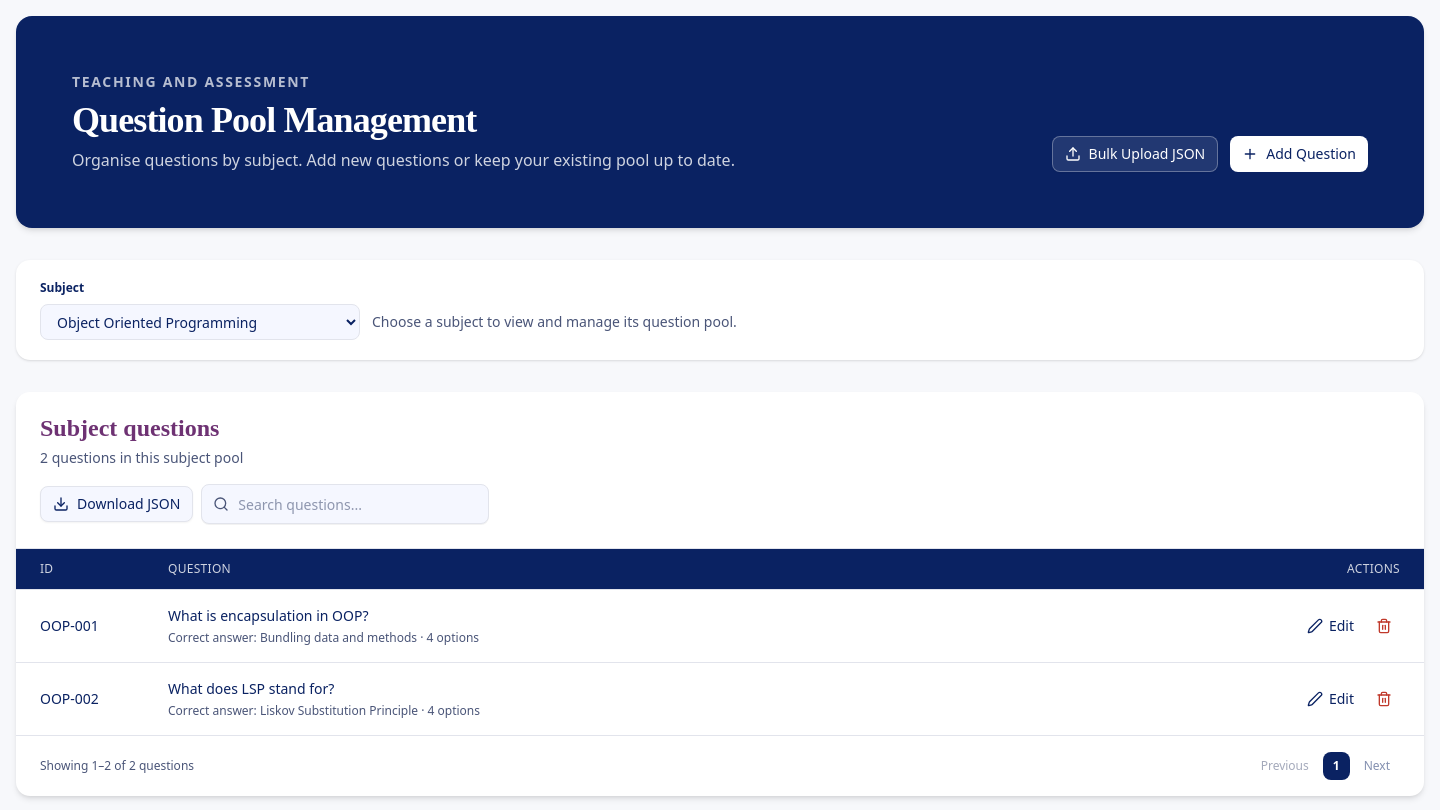
Test: QuestionPoolPage › filters questions by search term
The width and height of the screenshot is (1440, 810).
Expected: the text "What is encapsulation in OOP?" is shown, x1=168 y1=606 x2=368 y2=625
Type "LSP" into the field with placeholder "Search questions...".
click(345, 504); type("LSP")  # box x1=201 y1=484 x2=489 y2=524
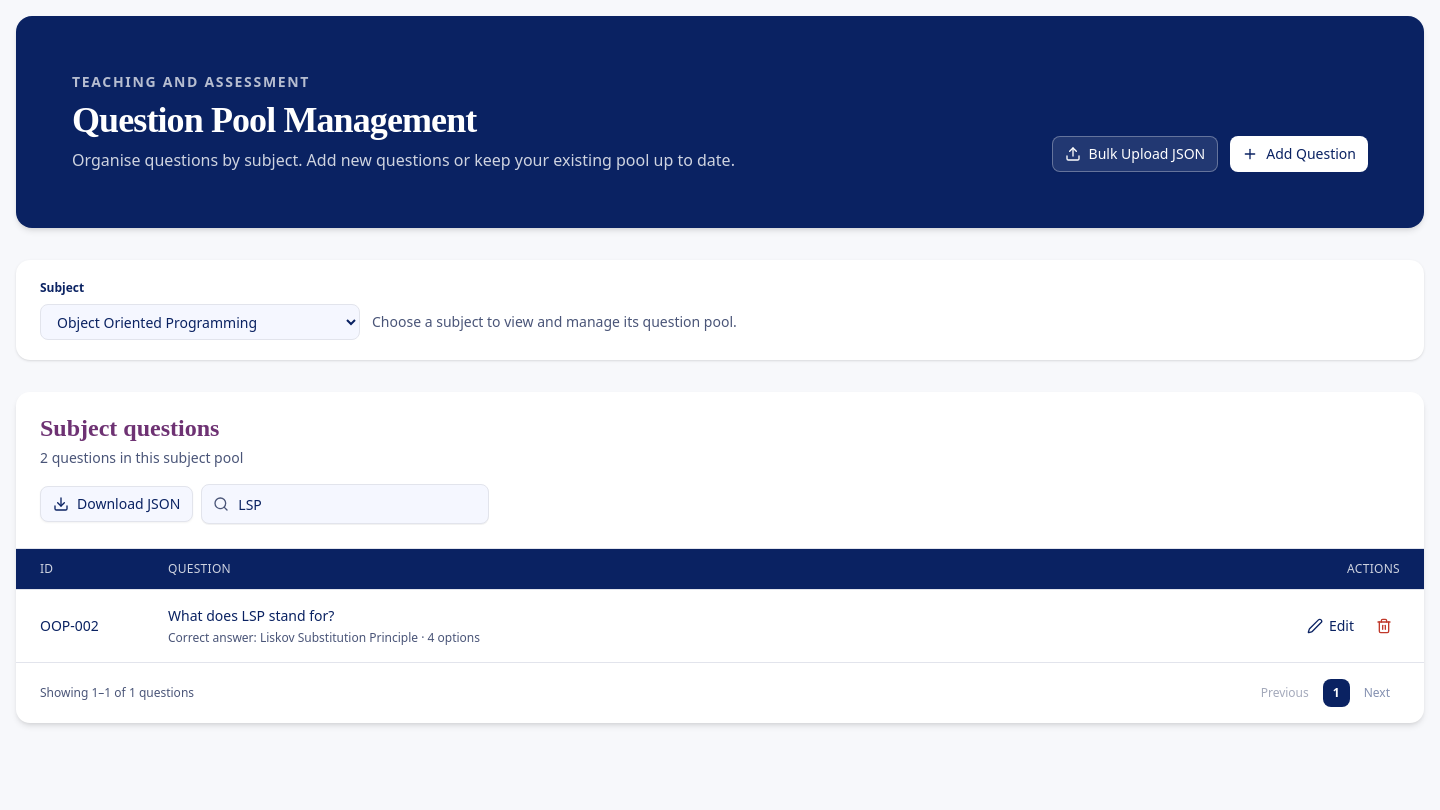
Expected: the text "What is encapsulation in OOP?" is gone
Expected: the text "What does LSP stand for?" is shown, x1=168 y1=606 x2=334 y2=625
Replace the text in the field with placeholder "Search questions..." with "nonexistent-query" at (345, 504), box x1=201 y1=484 x2=489 y2=524
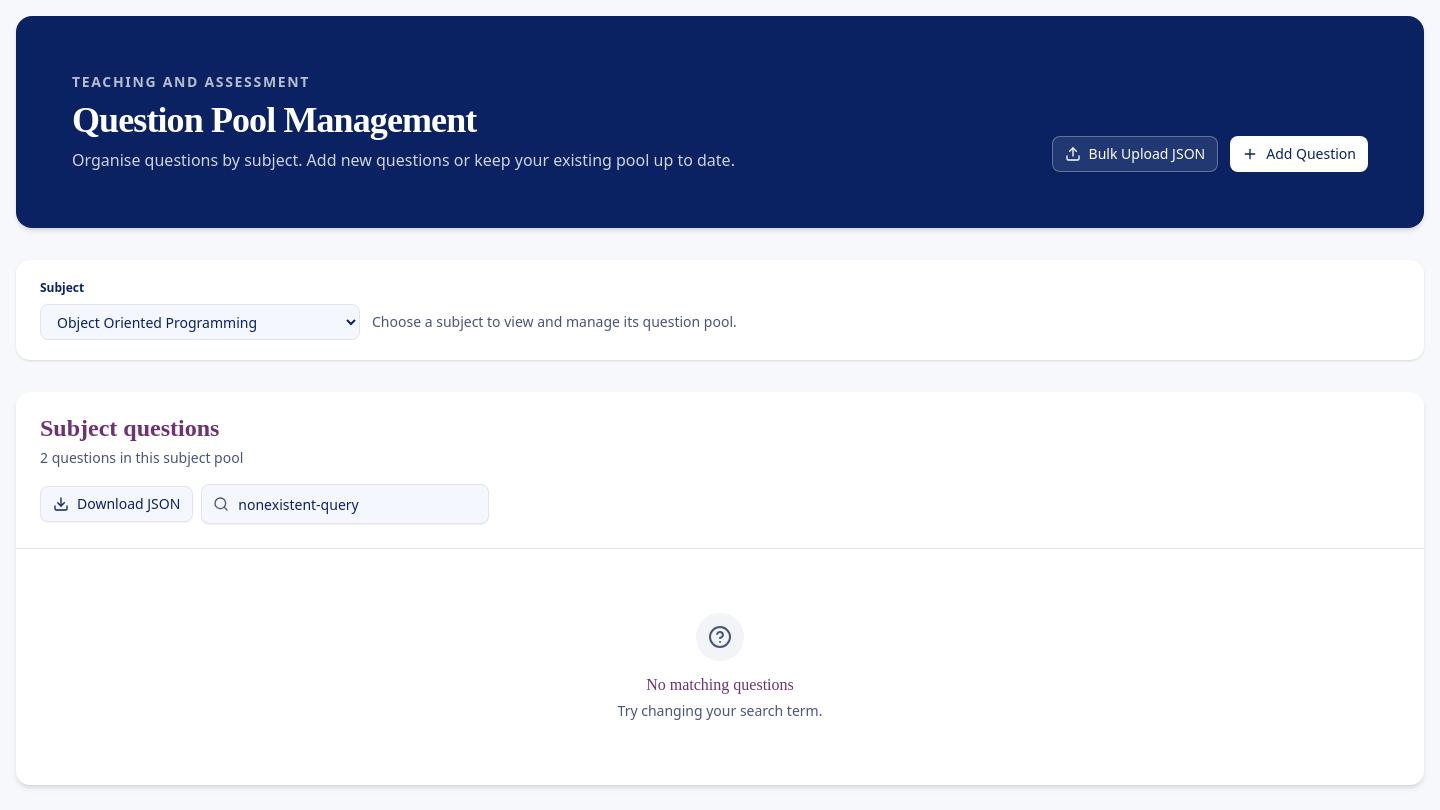
Expected: the heading "No matching questions" is shown, x1=646 y1=676 x2=794 y2=693
